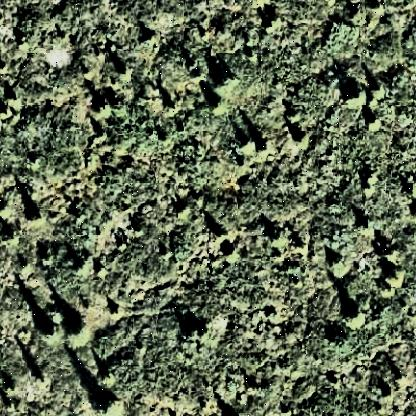tree-top: (185, 318, 211, 343), (332, 251, 355, 279), (387, 267, 411, 293), (66, 319, 89, 345), (344, 86, 370, 108), (95, 394, 120, 416), (343, 306, 366, 329), (91, 97, 113, 120), (38, 318, 59, 342), (266, 224, 286, 249), (25, 208, 47, 230), (211, 73, 234, 93), (115, 64, 135, 84), (357, 217, 377, 237), (237, 135, 255, 155), (295, 131, 312, 149), (212, 98, 228, 116), (255, 144, 271, 162), (223, 245, 239, 263)
